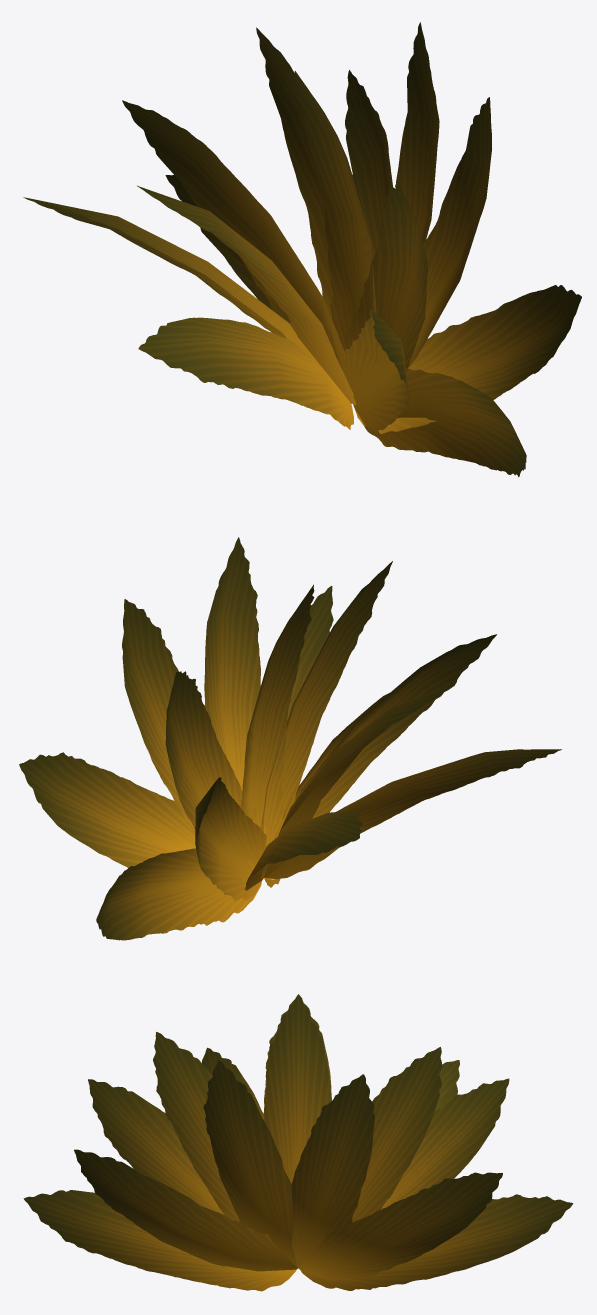
File: Elvis_Shrub_01.FBX
3 views of the same model, one above another, from view 1: azimuth 30°, elevation 25°; view 2: azimuth 150°, elevation 25°; view 3: azimuth 270°, elevation 25° (orthographic). The views are drawn at different scales.
Visible parts, largest first — view 1: Plant_004; view 2: Plant_004; view 3: Plant_004.
Part boxes in pixels (bbox=[...]): Plant_004: bbox=[23, 22, 581, 477]; Plant_004: bbox=[19, 537, 561, 940]; Plant_004: bbox=[23, 994, 573, 1291].
Size of the model in its own units: 4.91 by 4.41 by 7.92.
